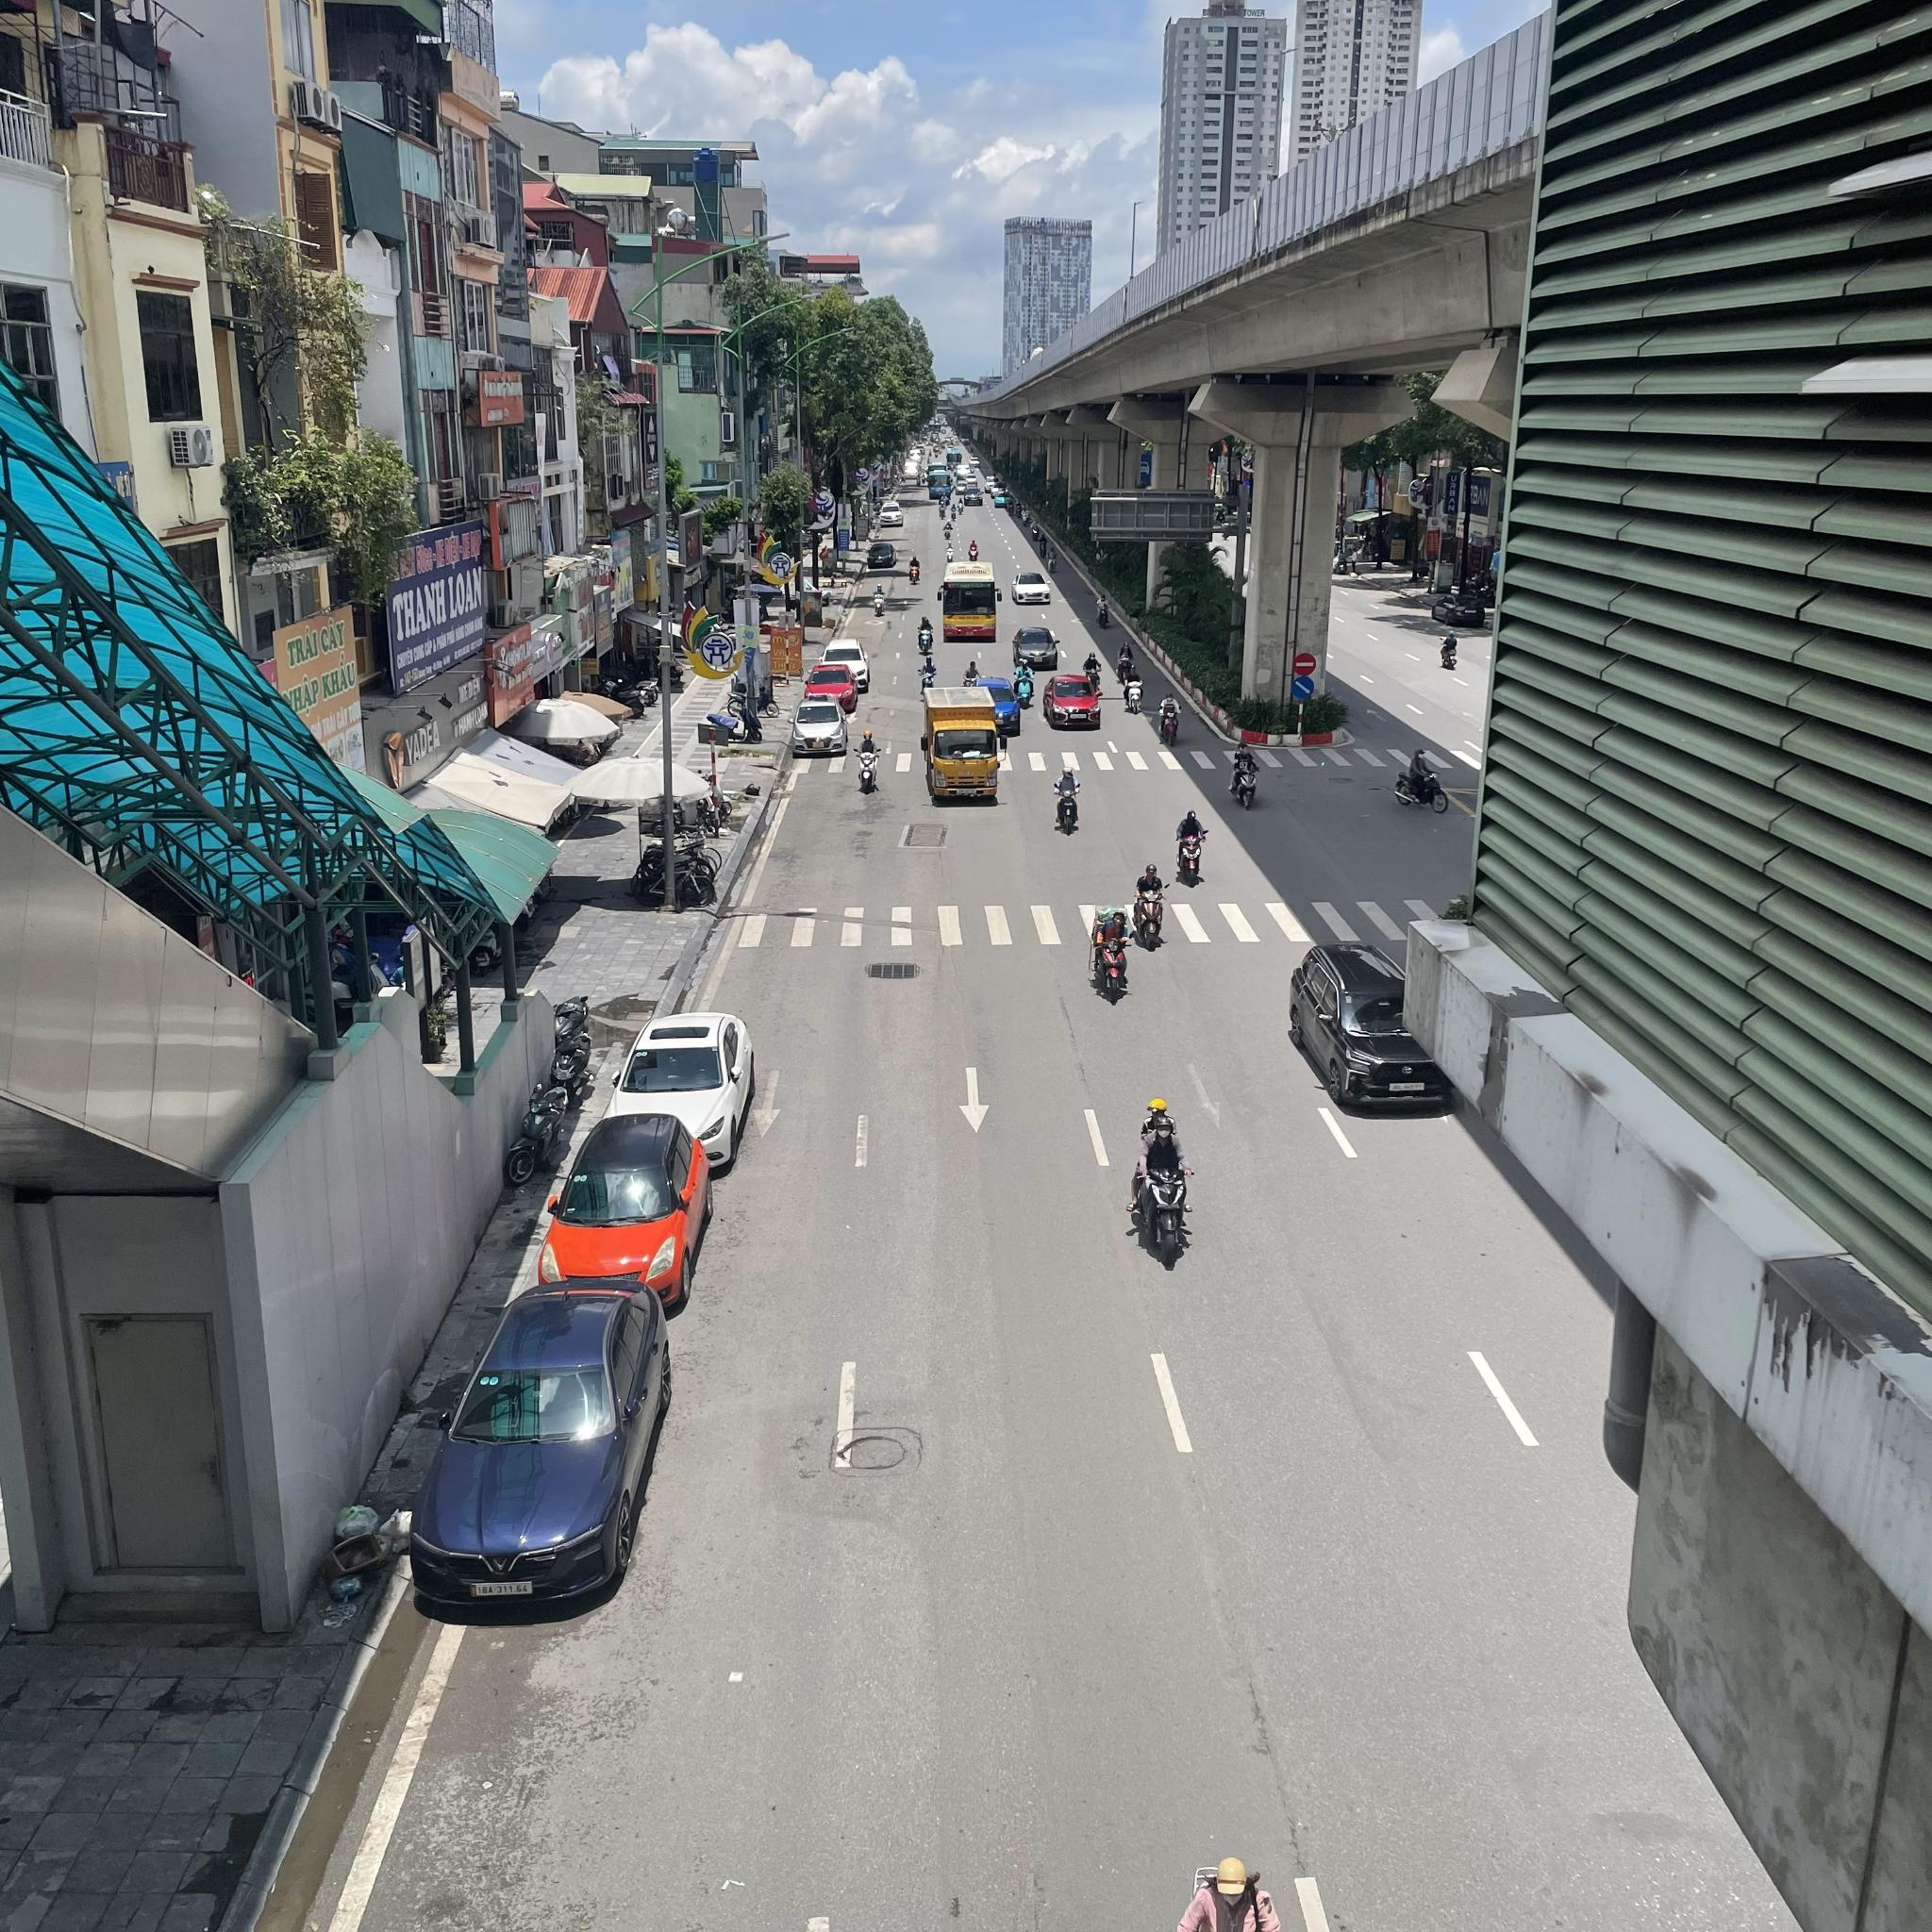car: (409, 1281, 672, 1622), (927, 685, 998, 805), (943, 563, 996, 640), (793, 697, 849, 759), (1044, 674, 1099, 727), (1012, 575, 1047, 603)
motobike: (1127, 1099, 1203, 1263), (1090, 906, 1132, 1005), (1396, 748, 1453, 814), (1134, 865, 1166, 954), (1177, 812, 1205, 886), (1053, 770, 1083, 837), (1231, 745, 1261, 809), (856, 731, 879, 791), (1162, 692, 1180, 745), (1125, 663, 1143, 715), (918, 617, 932, 655), (1097, 594, 1109, 630), (874, 586, 885, 617), (911, 556, 920, 584)
